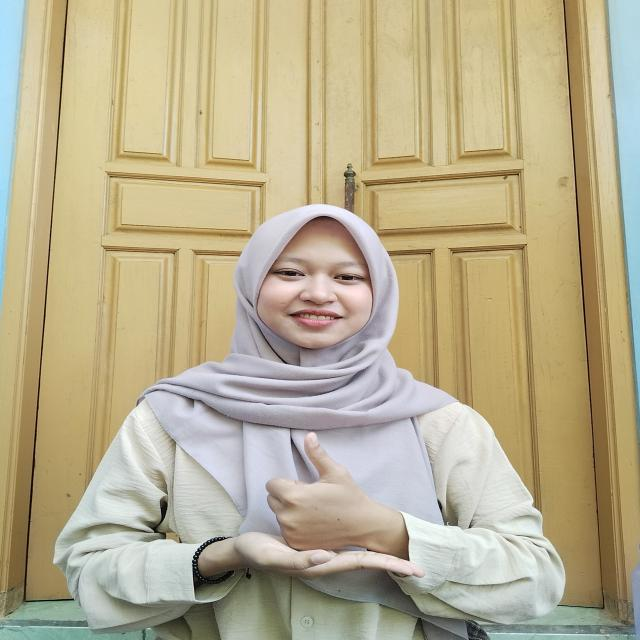cantik: (221, 421, 443, 592)
